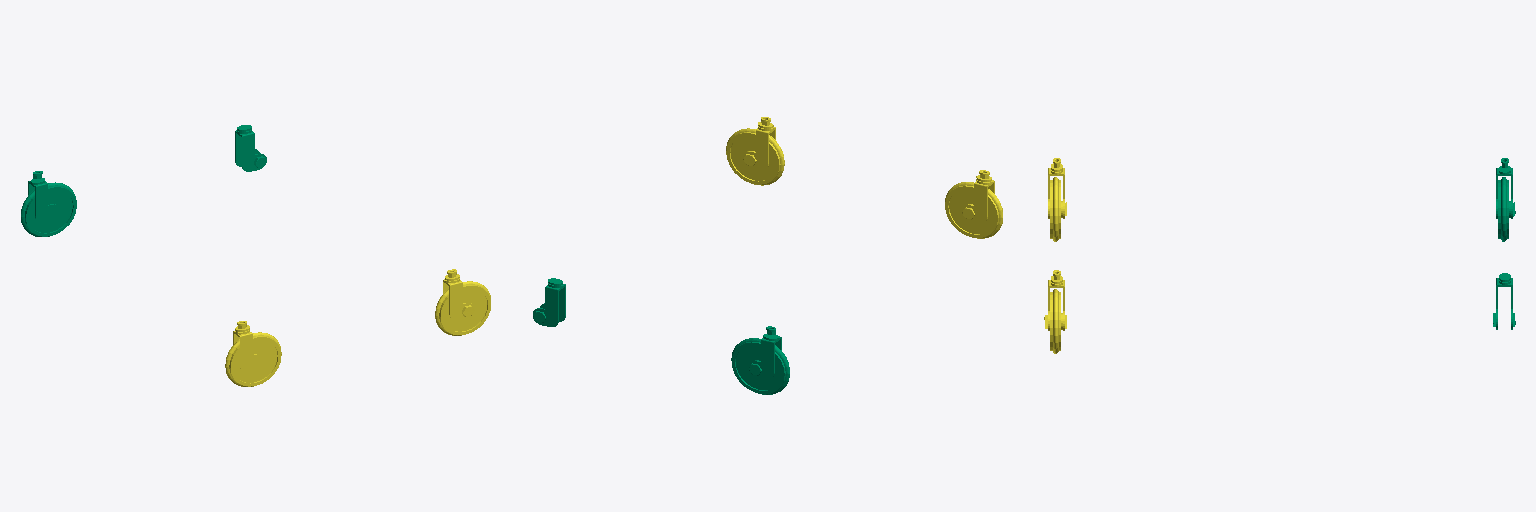
--- Facts derived from the render (not from the file) ---
The picture shows the robot from 3 angles, left to right: view 1: azimuth 30°, elevation 25°; view 2: azimuth 150°, elevation 25°; view 3: azimuth 270°, elevation 25°; orthographic projection.
Robot: partnet_3cdabe258ed67a144da5feafe6f1c8fc — 4 links, 3 joints (1 revolute, 1 prismatic, 1 fixed); root link base; default pose: all joints at 0.
Links seen in each view (by area): view 1: link_2, link_1; view 2: link_2, link_1; view 3: link_2, link_1.
Link boxes in pixels (x1,y1,x2,y2): link_2: [225, 269, 490, 386]; link_1: [21, 125, 266, 236]; link_2: [726, 117, 1002, 238]; link_1: [533, 278, 789, 394]; link_2: [1044, 158, 1066, 353]; link_1: [1493, 158, 1515, 329].
Size in the robot's own frame: 1.15 by 1.61 by 0.2741 metres.
Meshes: 43 distinct files referenced, 23 mesh visuals loaded (23 OBJ); not drawn: 20 (reference not matched to a file when rendering).

robot.urdf — partnet_3cdabe258ed67a144da5feafe6f1c8fc:
<robot name="partnet_3cdabe258ed67a144da5feafe6f1c8fc">
	<link name="base" />
	<link name="link_0">
		<collision>
			<origin xyz="0.06925157730966305 0 -0.3877265588637183" />
			<geometry>
				<mesh filename="new5_objs/handle-15-0.obj" />
			</geometry>
		</collision>
		<collision>
			<origin xyz="0.06925157730966305 0 -0.3877265588637183" />
			<geometry>
				<mesh filename="new5_objs/handle-15-1.obj" />
			</geometry>
		</collision>
		<collision>
			<origin xyz="0.06925157730966305 0 -0.3877265588637183" />
			<geometry>
				<mesh filename="new5_objs/handle-15-2.obj" />
			</geometry>
		</collision>
		<collision>
			<origin xyz="0.06925157730966305 0 -0.3877265588637183" />
			<geometry>
				<mesh filename="new5_objs/handle-15-3.obj" />
			</geometry>
		</collision>
		<collision>
			<origin xyz="0.06925157730966305 0 -0.3877265588637183" />
			<geometry>
				<mesh filename="new5_objs/handle-15-4.obj" />
			</geometry>
		</collision>
		<collision>
			<origin xyz="0.06925157730966305 0 -0.3877265588637183" />
			<geometry>
				<mesh filename="new5_objs/handle-15-5.obj" />
			</geometry>
		</collision>
		<collision>
			<origin xyz="0.06925157730966305 0 -0.3877265588637183" />
			<geometry>
				<mesh filename="new5_objs/handle-15-6.obj" />
			</geometry>
		</collision>
		<collision>
			<origin xyz="0.06925157730966305 0 -0.3877265588637183" />
			<geometry>
				<mesh filename="new5_objs/handle-15-7.obj" />
			</geometry>
		</collision>
		<collision>
			<origin xyz="0.06925157730966305 0 -0.3877265588637183" />
			<geometry>
				<mesh filename="new5_objs/handle-15-8.obj" />
			</geometry>
		</collision>
		<collision>
			<origin xyz="0.06925157730966305 0 -0.3877265588637183" />
			<geometry>
				<mesh filename="new5_objs/handle-15-9.obj" />
			</geometry>
		</collision>
		<collision>
			<origin xyz="0.06925157730966305 0 -0.3877265588637183" />
			<geometry>
				<mesh filename="new5_objs/handle-15-10.obj" />
			</geometry>
		</collision>
		<collision>
			<origin xyz="0.06925157730966305 0 -0.3877265588637183" />
			<geometry>
				<mesh filename="new5_objs/handle-15-11.obj" />
			</geometry>
		</collision>
		<collision>
			<origin xyz="0.06925157730966305 0 -0.3877265588637183" />
			<geometry>
				<mesh filename="new5_objs/handle-15-12.obj" />
			</geometry>
		</collision>
		<collision>
			<origin xyz="0.06925157730966305 0 -0.3877265588637183" />
			<geometry>
				<mesh filename="new5_objs/handle-15-13.obj" />
			</geometry>
		</collision>
		<collision>
			<origin xyz="0.06925157730966305 0 -0.3877265588637183" />
			<geometry>
				<mesh filename="new5_objs/cabinet_door_surface-14-0.obj" />
			</geometry>
		</collision>
		<collision>
			<origin xyz="0.06925157730966305 0 -0.3877265588637183" />
			<geometry>
				<mesh filename="new5_objs/cabinet_door_surface-14-1.obj" />
			</geometry>
		</collision>
		<collision>
			<origin xyz="0.06925157730966305 0 -0.3877265588637183" />
			<geometry>
				<mesh filename="new5_objs/cabinet_door_surface-14-2.obj" />
			</geometry>
		</collision>
		<collision>
			<origin xyz="0.06925157730966305 0 -0.3877265588637183" />
			<geometry>
				<mesh filename="new5_objs/cabinet_door_surface-14-3.obj" />
			</geometry>
		</collision>
		<collision>
			<origin xyz="0.06925157730966305 0 -0.3877265588637183" />
			<geometry>
				<mesh filename="new5_objs/cabinet_door_surface-14-4.obj" />
			</geometry>
		</collision>
		<collision>
			<origin xyz="0.06925157730966305 0 -0.3877265588637183" />
			<geometry>
				<mesh filename="new5_objs/cabinet_door_surface-14-5.obj" />
			</geometry>
		</collision>
		<collision>
			<origin xyz="0.06925157730966305 0 -0.3877265588637183" />
			<geometry>
				<mesh filename="new5_objs/cabinet_door_surface-14-6.obj" />
			</geometry>
		</collision>
		<collision>
			<origin xyz="0.06925157730966305 0 -0.3877265588637183" />
			<geometry>
				<mesh filename="new5_objs/cabinet_door_surface-14-7.obj" />
			</geometry>
		</collision>
		<collision>
			<origin xyz="0.06925157730966305 0 -0.3877265588637183" />
			<geometry>
				<mesh filename="new5_objs/cabinet_door_surface-14-8.obj" />
			</geometry>
		</collision>
		<collision>
			<origin xyz="0.06925157730966305 0 -0.3877265588637183" />
			<geometry>
				<mesh filename="new5_objs/cabinet_door_surface-14-9.obj" />
			</geometry>
		</collision>
		<collision>
			<origin xyz="0.06925157730966305 0 -0.3877265588637183" />
			<geometry>
				<mesh filename="new5_objs/cabinet_door_surface-14-10.obj" />
			</geometry>
		</collision>
		<collision>
			<origin xyz="0.06925157730966305 0 -0.3877265588637183" />
			<geometry>
				<mesh filename="new5_objs/cabinet_door_surface-14-11.obj" />
			</geometry>
		</collision>
		<visual name="cabinet_door_surface-14">
			<origin xyz="0.06925157730966305 0 -0.3877265588637183" />
			<geometry>
				<mesh filename="textured_objs/original-51.obj" />
			</geometry>
		</visual>
		<visual name="cabinet_door_surface-14">
			<origin xyz="0.06925157730966305 0 -0.3877265588637183" />
			<geometry>
				<mesh filename="textured_objs/original-46.obj" />
			</geometry>
		</visual>
		<visual name="cabinet_door_surface-14">
			<origin xyz="0.06925157730966305 0 -0.3877265588637183" />
			<geometry>
				<mesh filename="textured_objs/original-47.obj" />
			</geometry>
		</visual>
		<visual name="cabinet_door_surface-14">
			<origin xyz="0.06925157730966305 0 -0.3877265588637183" />
			<geometry>
				<mesh filename="textured_objs/original-45.obj" />
			</geometry>
		</visual>
		<visual name="cabinet_door_surface-14">
			<origin xyz="0.06925157730966305 0 -0.3877265588637183" />
			<geometry>
				<mesh filename="textured_objs/original-48.obj" />
			</geometry>
		</visual>
		<visual name="cabinet_door_surface-14">
			<origin xyz="0.06925157730966305 0 -0.3877265588637183" />
			<geometry>
				<mesh filename="textured_objs/original-50.obj" />
			</geometry>
		</visual>
		<visual name="handle-15">
			<origin xyz="0.06925157730966305 0 -0.3877265588637183" />
			<geometry>
				<mesh filename="textured_objs/original-52.obj" />
			</geometry>
		</visual>
		</link>
	<joint name="joint_0" type="revolute">
		<origin xyz="-0.06925157730966305 0 0.3877265588637183" />
		<axis xyz="0 1 0" />
		<child link="link_0" />
		<parent link="link_2" />
		<limit lower="0.0" upper="1.5707963267948966" />
	</joint>
	<link name="link_1">
		<collision>
			<origin xyz="0 0 0" />
			<geometry>
				<mesh filename="new5_objs/drawer_side-10-0.obj" />
			</geometry>
		</collision>
		<collision>
			<origin xyz="0 0 0" />
			<geometry>
				<mesh filename="new5_objs/drawer_side-11-0.obj" />
			</geometry>
		</collision>
		<collision>
			<origin xyz="0 0 0" />
			<geometry>
				<mesh filename="new5_objs/drawer_bottom-13-0.obj" />
			</geometry>
		</collision>
		<collision>
			<origin xyz="0 0 0" />
			<geometry>
				<mesh filename="new5_objs/drawer_bottom-13-1.obj" />
			</geometry>
		</collision>
		<collision>
			<origin xyz="0 0 0" />
			<geometry>
				<mesh filename="new5_objs/drawer_front-9-0.obj" />
			</geometry>
		</collision>
		<collision>
			<origin xyz="0 0 0" />
			<geometry>
				<mesh filename="new5_objs/drawer_front-9-1.obj" />
			</geometry>
		</collision>
		<collision>
			<origin xyz="0 0 0" />
			<geometry>
				<mesh filename="new5_objs/drawer_front-9-2.obj" />
			</geometry>
		</collision>
		<collision>
			<origin xyz="0 0 0" />
			<geometry>
				<mesh filename="new5_objs/drawer_front-9-3.obj" />
			</geometry>
		</collision>
		<collision>
			<origin xyz="0 0 0" />
			<geometry>
				<mesh filename="new5_objs/drawer_front-9-4.obj" />
			</geometry>
		</collision>
		<collision>
			<origin xyz="0 0 0" />
			<geometry>
				<mesh filename="new5_objs/drawer_front-9-5.obj" />
			</geometry>
		</collision>
		<collision>
			<origin xyz="0 0 0" />
			<geometry>
				<mesh filename="new5_objs/drawer_front-9-6.obj" />
			</geometry>
		</collision>
		<collision>
			<origin xyz="0 0 0" />
			<geometry>
				<mesh filename="new5_objs/drawer_front-9-7.obj" />
			</geometry>
		</collision>
		<collision>
			<origin xyz="0 0 0" />
			<geometry>
				<mesh filename="new5_objs/drawer_front-9-8.obj" />
			</geometry>
		</collision>
		<collision>
			<origin xyz="0 0 0" />
			<geometry>
				<mesh filename="new5_objs/drawer_front-9-9.obj" />
			</geometry>
		</collision>
		<collision>
			<origin xyz="0 0 0" />
			<geometry>
				<mesh filename="new5_objs/drawer_front-9-10.obj" />
			</geometry>
		</collision>
		<collision>
			<origin xyz="0 0 0" />
			<geometry>
				<mesh filename="new5_objs/drawer_front-9-11.obj" />
			</geometry>
		</collision>
		<collision>
			<origin xyz="0 0 0" />
			<geometry>
				<mesh filename="new5_objs/drawer_front-9-12.obj" />
			</geometry>
		</collision>
		<collision>
			<origin xyz="0 0 0" />
			<geometry>
				<mesh filename="new5_objs/drawer_front-9-13.obj" />
			</geometry>
		</collision>
		<collision>
			<origin xyz="0 0 0" />
			<geometry>
				<mesh filename="new5_objs/drawer_front-9-14.obj" />
			</geometry>
		</collision>
		<collision>
			<origin xyz="0 0 0" />
			<geometry>
				<mesh filename="new5_objs/drawer_front-9-15.obj" />
			</geometry>
		</collision>
		<collision>
			<origin xyz="0 0 0" />
			<geometry>
				<mesh filename="new5_objs/handle-8-0.obj" />
			</geometry>
		</collision>
		<collision>
			<origin xyz="0 0 0" />
			<geometry>
				<mesh filename="new5_objs/handle-8-1.obj" />
			</geometry>
		</collision>
		<collision>
			<origin xyz="0 0 0" />
			<geometry>
				<mesh filename="new5_objs/handle-8-2.obj" />
			</geometry>
		</collision>
		<collision>
			<origin xyz="0 0 0" />
			<geometry>
				<mesh filename="new5_objs/handle-8-3.obj" />
			</geometry>
		</collision>
		<collision>
			<origin xyz="0 0 0" />
			<geometry>
				<mesh filename="new5_objs/handle-8-4.obj" />
			</geometry>
		</collision>
		<collision>
			<origin xyz="0 0 0" />
			<geometry>
				<mesh filename="new5_objs/handle-8-5.obj" />
			</geometry>
		</collision>
		<collision>
			<origin xyz="0 0 0" />
			<geometry>
				<mesh filename="new5_objs/handle-8-6.obj" />
			</geometry>
		</collision>
		<collision>
			<origin xyz="0 0 0" />
			<geometry>
				<mesh filename="new5_objs/handle-8-7.obj" />
			</geometry>
		</collision>
		<collision>
			<origin xyz="0 0 0" />
			<geometry>
				<mesh filename="new5_objs/handle-8-8.obj" />
			</geometry>
		</collision>
		<collision>
			<origin xyz="0 0 0" />
			<geometry>
				<mesh filename="new5_objs/handle-8-9.obj" />
			</geometry>
		</collision>
		<collision>
			<origin xyz="0 0 0" />
			<geometry>
				<mesh filename="new5_objs/handle-8-10.obj" />
			</geometry>
		</collision>
		<collision>
			<origin xyz="0 0 0" />
			<geometry>
				<mesh filename="new5_objs/handle-8-11.obj" />
			</geometry>
		</collision>
		<collision>
			<origin xyz="0 0 0" />
			<geometry>
				<mesh filename="new5_objs/handle-8-12.obj" />
			</geometry>
		</collision>
		<collision>
			<origin xyz="0 0 0" />
			<geometry>
				<mesh filename="new5_objs/handle-8-13.obj" />
			</geometry>
		</collision>
		<collision>
			<origin xyz="0 0 0" />
			<geometry>
				<mesh filename="new5_objs/drawer_back-12-0.obj" />
			</geometry>
		</collision>
		<collision>
			<origin xyz="0 0 0" />
			<geometry>
				<mesh filename="new5_objs/drawer_back-12-1.obj" />
			</geometry>
		</collision>
		<collision>
			<origin xyz="0 0 0" />
			<geometry>
				<mesh filename="new5_objs/drawer_back-12-2.obj" />
			</geometry>
		</collision>
		<collision>
			<origin xyz="0 0 0" />
			<geometry>
				<mesh filename="new5_objs/drawer_back-12-3.obj" />
			</geometry>
		</collision>
		<collision>
			<origin xyz="0 0 0" />
			<geometry>
				<mesh filename="new5_objs/drawer_back-12-4.obj" />
			</geometry>
		</collision>
		<collision>
			<origin xyz="0 0 0" />
			<geometry>
				<mesh filename="new5_objs/drawer_back-12-5.obj" />
			</geometry>
		</collision>
		<collision>
			<origin xyz="0 0 0" />
			<geometry>
				<mesh filename="new5_objs/drawer_back-12-6.obj" />
			</geometry>
		</collision>
		<collision>
			<origin xyz="0 0 0" />
			<geometry>
				<mesh filename="new5_objs/drawer_back-12-7.obj" />
			</geometry>
		</collision>
		<visual name="drawer_front-9">
			<origin xyz="0 0 0" />
			<geometry>
				<mesh filename="textured_objs/original-42.obj" />
			</geometry>
		</visual>
		<visual name="drawer_front-9">
			<origin xyz="0 0 0" />
			<geometry>
				<mesh filename="textured_objs/original-38.obj" />
			</geometry>
		</visual>
		<visual name="drawer_front-9">
			<origin xyz="0 0 0" />
			<geometry>
				<mesh filename="textured_objs/original-39.obj" />
			</geometry>
		</visual>
		<visual name="drawer_front-9">
			<origin xyz="0 0 0" />
			<geometry>
				<mesh filename="textured_objs/original-36.obj" />
			</geometry>
		</visual>
		<visual name="drawer_front-9">
			<origin xyz="0 0 0" />
			<geometry>
				<mesh filename="textured_objs/original-37.obj" />
			</geometry>
		</visual>
		<visual name="drawer_front-9">
			<origin xyz="0 0 0" />
			<geometry>
				<mesh filename="textured_objs/original-41.obj" />
			</geometry>
		</visual>
		<visual name="drawer_front-9">
			<origin xyz="0 0 0" />
			<geometry>
				<mesh filename="textured_objs/original-28.obj" />
			</geometry>
		</visual>
		<visual name="drawer_side-10">
			<origin xyz="0 0 0" />
			<geometry>
				<mesh filename="textured_objs/original-27.obj" />
			</geometry>
		</visual>
		<visual name="drawer_side-11">
			<origin xyz="0 0 0" />
			<geometry>
				<mesh filename="textured_objs/original-32.obj" />
			</geometry>
		</visual>
		<visual name="drawer_side-11">
			<origin xyz="0 0 0" />
			<geometry>
				<mesh filename="textured_objs/original-34.obj" />
			</geometry>
		</visual>
		<visual name="drawer_back-12">
			<origin xyz="0 0 0" />
			<geometry>
				<mesh filename="textured_objs/original-33.obj" />
			</geometry>
		</visual>
		<visual name="drawer_bottom-13">
			<origin xyz="0 0 0" />
			<geometry>
				<mesh filename="textured_objs/original-31.obj" />
			</geometry>
		</visual>
		<visual name="drawer_bottom-13">
			<origin xyz="0 0 0" />
			<geometry>
				<mesh filename="textured_objs/original-30.obj" />
			</geometry>
		</visual>
		<visual name="handle-8">
			<origin xyz="0 0 0" />
			<geometry>
				<mesh filename="textured_objs/original-43.obj" />
			</geometry>
		</visual>
		</link>
	<joint name="joint_1" type="prismatic">
		<origin xyz="0 0 0" />
		<axis xyz="0 0 1" />
		<child link="link_1" />
		<parent link="link_2" />
		<limit lower="0" upper="0.6" />
	</joint>
	<link name="link_2">
		<collision>
			<origin xyz="0 0 0" />
			<geometry>
				<mesh filename="new5_objs/vertical_side_panel-23-0.obj" />
			</geometry>
		</collision>
		<collision>
			<origin xyz="0 0 0" />
			<geometry>
				<mesh filename="new5_objs/vertical_side_panel-23-1.obj" />
			</geometry>
		</collision>
		<collision>
			<origin xyz="0 0 0" />
			<geometry>
				<mesh filename="new5_objs/vertical_side_panel-23-2.obj" />
			</geometry>
		</collision>
		<collision>
			<origin xyz="0 0 0" />
			<geometry>
				<mesh filename="new5_objs/vertical_side_panel-23-3.obj" />
			</geometry>
		</collision>
		<collision>
			<origin xyz="0 0 0" />
			<geometry>
				<mesh filename="new5_objs/vertical_side_panel-23-4.obj" />
			</geometry>
		</collision>
		<collision>
			<origin xyz="0 0 0" />
			<geometry>
				<mesh filename="new5_objs/vertical_side_panel-23-5.obj" />
			</geometry>
		</collision>
		<collision>
			<origin xyz="0 0 0" />
			<geometry>
				<mesh filename="new5_objs/vertical_side_panel-23-6.obj" />
			</geometry>
		</collision>
		<collision>
			<origin xyz="0 0 0" />
			<geometry>
				<mesh filename="new5_objs/vertical_side_panel-23-7.obj" />
			</geometry>
		</collision>
		<collision>
			<origin xyz="0 0 0" />
			<geometry>
				<mesh filename="new5_objs/vertical_side_panel-23-8.obj" />
			</geometry>
		</collision>
		<collision>
			<origin xyz="0 0 0" />
			<geometry>
				<mesh filename="new5_objs/vertical_side_panel-23-9.obj" />
			</geometry>
		</collision>
		<collision>
			<origin xyz="0 0 0" />
			<geometry>
				<mesh filename="new5_objs/vertical_side_panel-23-10.obj" />
			</geometry>
		</collision>
		<collision>
			<origin xyz="0 0 0" />
			<geometry>
				<mesh filename="new5_objs/frame_horizontal_bar-28-0.obj" />
			</geometry>
		</collision>
		<collision>
			<origin xyz="0 0 0" />
			<geometry>
				<mesh filename="new5_objs/frame_horizontal_bar-28-1.obj" />
			</geometry>
		</collision>
		<collision>
			<origin xyz="0 0 0" />
			<geometry>
				<mesh filename="new5_objs/frame_horizontal_bar-28-2.obj" />
			</geometry>
		</collision>
		<collision>
			<origin xyz="0 0 0" />
			<geometry>
				<mesh filename="new5_objs/frame_horizontal_bar-28-3.obj" />
			</geometry>
		</collision>
		<collision>
			<origin xyz="0 0 0" />
			<geometry>
				<mesh filename="new5_objs/frame_horizontal_bar-28-4.obj" />
			</geometry>
		</collision>
		<collision>
			<origin xyz="0 0 0" />
			<geometry>
				<mesh filename="new5_objs/frame_horizontal_bar-28-5.obj" />
			</geometry>
		</collision>
		<collision>
			<origin xyz="0 0 0" />
			<geometry>
				<mesh filename="new5_objs/frame_horizontal_bar-28-6.obj" />
			</geometry>
		</collision>
		<collision>
			<origin xyz="0 0 0" />
			<geometry>
				<mesh filename="new5_objs/frame_horizontal_bar-28-7.obj" />
			</geometry>
		</collision>
		<collision>
			<origin xyz="0 0 0" />
			<geometry>
				<mesh filename="new5_objs/frame_horizontal_bar-30-0.obj" />
			</geometry>
		</collision>
		<collision>
			<origin xyz="0 0 0" />
			<geometry>
				<mesh filename="new5_objs/frame_horizontal_bar-30-1.obj" />
			</geometry>
		</collision>
		<collision>
			<origin xyz="0 0 0" />
			<geometry>
				<mesh filename="new5_objs/frame_horizontal_bar-30-2.obj" />
			</geometry>
		</collision>
		<collision>
			<origin xyz="0 0 0" />
			<geometry>
				<mesh filename="new5_objs/frame_horizontal_bar-30-3.obj" />
			</geometry>
		</collision>
		<collision>
			<origin xyz="0 0 0" />
			<geometry>
				<mesh filename="new5_objs/other_leaf-39-0.obj" />
			</geometry>
		</collision>
		<collision>
			<origin xyz="0 0 0" />
			<geometry>
				<mesh filename="new5_objs/vertical_side_panel-22-0.obj" />
			</geometry>
		</collision>
		<collision>
			<origin xyz="0 0 0" />
			<geometry>
				<mesh filename="new5_objs/vertical_side_panel-22-1.obj" />
			</geometry>
		</collision>
		<collision>
			<origin xyz="0 0 0" />
			<geometry>
				<mesh filename="new5_objs/vertical_side_panel-22-2.obj" />
			</geometry>
		</collision>
		<collision>
			<origin xyz="0 0 0" />
			<geometry>
				<mesh filename="new5_objs/vertical_side_panel-22-3.obj" />
			</geometry>
		</collision>
		<collision>
			<origin xyz="0 0 0" />
			<geometry>
				<mesh filename="new5_objs/vertical_side_panel-22-4.obj" />
			</geometry>
		</collision>
		<collision>
			<origin xyz="0 0 0" />
			<geometry>
				<mesh filename="new5_objs/vertical_side_panel-22-5.obj" />
			</geometry>
		</collision>
		<collision>
			<origin xyz="0 0 0" />
			<geometry>
				<mesh filename="new5_objs/vertical_side_panel-22-6.obj" />
			</geometry>
		</collision>
		<collision>
			<origin xyz="0 0 0" />
			<geometry>
				<mesh filename="new5_objs/vertical_side_panel-22-7.obj" />
			</geometry>
		</collision>
		<collision>
			<origin xyz="0 0 0" />
			<geometry>
				<mesh filename="new5_objs/vertical_side_panel-22-8.obj" />
			</geometry>
		</collision>
		<collision>
			<origin xyz="0 0 0" />
			<geometry>
				<mesh filename="new5_objs/vertical_side_panel-22-9.obj" />
			</geometry>
		</collision>
		<collision>
			<origin xyz="0 0 0" />
			<geometry>
				<mesh filename="new5_objs/vertical_side_panel-22-10.obj" />
			</geometry>
		</collision>
		<collision>
			<origin xyz="0 0 0" />
			<geometry>
				<mesh filename="new5_objs/frame_horizontal_bar-29-0.obj" />
			</geometry>
		</collision>
		<collision>
			<origin xyz="0 0 0" />
			<geometry>
				<mesh filename="new5_objs/frame_horizontal_bar-29-1.obj" />
			</geometry>
		</collision>
		<collision>
			<origin xyz="0 0 0" />
			<geometry>
				<mesh filename="new5_objs/frame_horizontal_bar-29-2.obj" />
			</geometry>
		</collision>
		<collision>
			<origin xyz="0 0 0" />
			<geometry>
				<mesh filename="new5_objs/frame_horizontal_bar-29-3.obj" />
			</geometry>
		</collision>
		<collision>
			<origin xyz="0 0 0" />
			<geometry>
				<mesh filename="new5_objs/frame_horizontal_bar-29-4.obj" />
			</geometry>
		</collision>
		<collision>
			<origin xyz="0 0 0" />
			<geometry>
				<mesh filename="new5_objs/frame_horizontal_bar-29-5.obj" />
			</geometry>
		</collision>
		<collision>
			<origin xyz="0 0 0" />
			<geometry>
				<mesh filename="new5_objs/frame_horizontal_bar-29-6.obj" />
			</geometry>
		</collision>
		<collision>
			<origin xyz="0 0 0" />
			<geometry>
				<mesh filename="new5_objs/frame_horizontal_bar-29-7.obj" />
			</geometry>
		</collision>
		<collision>
			<origin xyz="0 0 0" />
			<geometry>
				<mesh filename="new5_objs/bottom_panel-25-0.obj" />
			</geometry>
		</collision>
		<collision>
			<origin xyz="0 0 0" />
			<geometry>
				<mesh filename="new5_objs/frame_horizontal_bar-31-0.obj" />
			</geometry>
		</collision>
		<collision>
			<origin xyz="0 0 0" />
			<geometry>
				<mesh filename="new5_objs/frame_horizontal_bar-31-1.obj" />
			</geometry>
		</collision>
		<collision>
			<origin xyz="0 0 0" />
			<geometry>
				<mesh filename="new5_objs/frame_horizontal_bar-31-2.obj" />
			</geometry>
		</collision>
		<collision>
			<origin xyz="0 0 0" />
			<geometry>
				<mesh filename="new5_objs/frame_horizontal_bar-31-3.obj" />
			</geometry>
		</collision>
		<collision>
			<origin xyz="0 0 0" />
			<geometry>
				<mesh filename="new5_objs/frame_horizontal_bar-31-4.obj" />
			</geometry>
		</collision>
		<collision>
			<origin xyz="0 0 0" />
			<geometry>
				<mesh filename="new5_objs/base_side_panel-17-0.obj" />
			</geometry>
		</collision>
		<collision>
			<origin xyz="0 0 0" />
			<geometry>
				<mesh filename="new5_objs/base_side_panel-17-1.obj" />
			</geometry>
		</collision>
		<collision>
			<origin xyz="0 0 0" />
			<geometry>
				<mesh filename="new5_objs/back_panel-24-0.obj" />
			</geometry>
		</collision>
		<collision>
			<origin xyz="0 0 0" />
			<geometry>
				<mesh filename="new5_objs/back_panel-24-1.obj" />
			</geometry>
		</collision>
		<collision>
			<origin xyz="0 0 0" />
			<geometry>
				<mesh filename="new5_objs/frame_vertical_bar-26-0.obj" />
			</geometry>
		</collision>
		<collision>
			<origin xyz="0 0 0" />
			<geometry>
				<mesh filename="new5_objs/frame_vertical_bar-34-0.obj" />
			</geometry>
		</collision>
		<collision>
			<origin xyz="0 0 0" />
			<geometry>
				<mesh filename="new5_objs/base_side_panel-18-0.obj" />
			</geometry>
		</collision>
		<collision>
			<origin xyz="0 0 0" />
			<geometry>
				<mesh filename="new5_objs/base_side_panel-18-1.obj" />
			</geometry>
		</collision>
		<collision>
			<origin xyz="0 0 0" />
			<geometry>
				<mesh filename="new5_objs/base_side_panel-18-2.obj" />
			</geometry>
		</collision>
		<collision>
			<origin xyz="0 0 0" />
			<geometry>
				<mesh filename="new5_objs/base_side_panel-18-3.obj" />
			</geometry>
		</collision>
		<collision>
			<origin xyz="0 0 0" />
			<geometry>
				<mesh filename="new5_objs/frame_vertical_bar-37-0.obj" />
			</geometry>
		</collision>
		<collision>
			<origin xyz="0 0 0" />
			<geometry>
				<mesh filename="new5_objs/frame_vertical_bar-37-1.obj" />
			</geometry>
		</collision>
		<collision>
			<origin xyz="0 0 0" />
			<geometry>
				<mesh filename="new5_objs/frame_vertical_bar-37-2.obj" />
			</geometry>
		</collision>
		<collision>
			<origin xyz="0 0 0" />
			<geometry>
				<mesh filename="new5_objs/frame_vertical_bar-37-3.obj" />
			</geometry>
		</collision>
		<collision>
			<origin xyz="0 0 0" />
			<geometry>
				<mesh filename="new5_objs/frame_vertical_bar-37-4.obj" />
			</geometry>
		</collision>
		<collision>
			<origin xyz="0 0 0" />
			<geometry>
				<mesh filename="new5_objs/frame_vertical_bar-37-5.obj" />
			</geometry>
		</collision>
		<collision>
			<origin xyz="0 0 0" />
			<geometry>
				<mesh filename="new5_objs/frame_vertical_bar-37-6.obj" />
			</geometry>
		</collision>
		<collision>
			<origin xyz="0 0 0" />
			<geometry>
				<mesh filename="new5_objs/frame_vertical_bar-37-7.obj" />
			</geometry>
		</collision>
		<collision>
			<origin xyz="0 0 0" />
			<geometry>
				<mesh filename="new5_objs/base_side_panel-20-0.obj" />
			</geometry>
		</collision>
		<collision>
			<origin xyz="0 0 0" />
			<geometry>
				<mesh filename="new5_objs/base_side_panel-20-1.obj" />
			</geometry>
		</collision>
		<collision>
			<origin xyz="0 0 0" />
			<geometry>
				<mesh filename="new5_objs/base_side_panel-20-2.obj" />
			</geometry>
		</collision>
		<collision>
			<origin xyz="0 0 0" />
			<geometry>
				<mesh filename="new5_objs/base_side_panel-20-3.obj" />
			</geometry>
		</collision>
		<collision>
			<origin xyz="0 0 0" />
			<geometry>
				<mesh filename="new5_objs/frame_horizontal_bar-33-0.obj" />
			</geometry>
		</collision>
		<collision>
			<origin xyz="0 0 0" />
			<geometry>
				<mesh filename="new5_objs/frame_horizontal_bar-33-1.obj" />
			</geometry>
		</collision>
		<collision>
			<origin xyz="0 0 0" />
			<geometry>
				<mesh filename="new5_objs/frame_horizontal_bar-33-2.obj" />
			</geometry>
		</collision>
		<collision>
			<origin xyz="0 0 0" />
			<geometry>
				<mesh filename="new5_objs/frame_horizontal_bar-33-3.obj" />
			</geometry>
		</collision>
		<collision>
			<origin xyz="0 0 0" />
			<geometry>
				<mesh filename="new5_objs/frame_horizontal_bar-33-4.obj" />
			</geometry>
		</collision>
		<collision>
			<origin xyz="0 0 0" />
			<geometry>
				<mesh filename="new5_objs/frame_horizontal_bar-33-5.obj" />
			</geometry>
		</collision>
		<collision>
			<origin xyz="0 0 0" />
			<geometry>
				<mesh filename="new5_objs/frame_horizontal_bar-33-6.obj" />
			</geometry>
		</collision>
		<collision>
			<origin xyz="0 0 0" />
			<geometry>
				<mesh filename="new5_objs/frame_horizontal_bar-33-7.obj" />
			</geometry>
		</collision>
		<collision>
			<origin xyz="0 0 0" />
			<geometry>
				<mesh filename="new5_objs/frame_horizontal_bar-32-0.obj" />
			</geometry>
		</collision>
		<collision>
			<origin xyz="0 0 0" />
			<geometry>
				<mesh filename="new5_objs/frame_horizontal_bar-32-1.obj" />
			</geometry>
		</collision>
		<collision>
			<origin xyz="0 0 0" />
			<geometry>
				<mesh filename="new5_objs/frame_horizontal_bar-32-2.obj" />
			</geometry>
		</collision>
		<collision>
			<origin xyz="0 0 0" />
			<geometry>
				<mesh filename="new5_objs/frame_horizontal_bar-32-3.obj" />
			</geometry>
		</collision>
		<collision>
			<origin xyz="0 0 0" />
			<geometry>
				<mesh filename="new5_objs/base_side_panel-19-0.obj" />
			</geometry>
		</collision>
		<collision>
			<origin xyz="0 0 0" />
			<geometry>
				<mesh filename="new5_objs/vertical_side_panel-36-0.obj" />
			</geometry>
		</collision>
		<collision>
			<origin xyz="0 0 0" />
			<geometry>
				<mesh filename="new5_objs/vertical_side_panel-36-1.obj" />
			</geometry>
		</collision>
		<collision>
			<origin xyz="0 0 0" />
			<geometry>
				<mesh filename="new5_objs/vertical_side_panel-36-2.obj" />
			</geometry>
		</collision>
		<collision>
			<origin xyz="0 0 0" />
			<geometry>
				<mesh filename="new5_objs/vertical_side_panel-36-3.obj" />
			</geometry>
		</collision>
		<collision>
			<origin xyz="0 0 0" />
			<geometry>
				<mesh filename="new5_objs/shelf-4-0.obj" />
			</geometry>
		</collision>
		<collision>
			<origin xyz="0 0 0" />
			<geometry>
				<mesh filename="new5_objs/shelf-4-1.obj" />
			</geometry>
		</collision>
		<collision>
			<origin xyz="0 0 0" />
			<geometry>
				<mesh filename="new5_objs/shelf-4-2.obj" />
			</geometry>
		</collision>
		<collision>
			<origin xyz="0 0 0" />
			<geometry>
				<mesh filename="new5_objs/shelf-4-3.obj" />
			</geometry>
		</collision>
		<visual name="shelf-4">
			<origin xyz="0 0 0" />
			<geometry>
				<mesh filename="textured_objs/original-2.obj" />
			</geometry>
		</visual>
		<visual name="vertical_side_panel-22">
			<origin xyz="0 0 0" />
			<geometry>
				<mesh filename="textured_objs/original-16.obj" />
			</geometry>
		</visual>
		<visual name="vertical_side_panel-22">
			<origin xyz="0 0 0" />
			<geometry>
				<mesh filename="textured_objs/original-15.obj" />
			</geometry>
		</visual>
		<visual name="vertical_side_panel-23">
			<origin xyz="0 0 0" />
			<geometry>
				<mesh filename="textured_objs/original-12.obj" />
			</geometry>
		</visual>
		<visual name="vertical_side_panel-23">
			<origin xyz="0 0 0" />
			<geometry>
				<mesh filename="textured_objs/original-11.obj" />
			</geometry>
		</visual>
		<visual name="back_panel-24">
			<origin xyz="0 0 0" />
			<geometry>
				<mesh filename="textured_objs/original-6.obj" />
			</geometry>
		</visual>
		<visual name="bottom_panel-25">
			<origin xyz="0 0 0" />
			<geometry>
				<mesh filename="textured_objs/original-3.obj" />
			</geometry>
		</visual>
		<visual name="frame_vertical_bar-26">
			<origin xyz="0 0 0" />
			<geometry>
				<mesh filename="textured_objs/original-8.obj" />
			</geometry>
		</visual>
		<visual name="frame_horizontal_bar-28">
			<origin xyz="0 0 0" />
			<geometry>
				<mesh filename="textured_objs/original-18.obj" />
			</geometry>
		</visual>
		<visual name="frame_horizontal_bar-29">
			<origin xyz="0 0 0" />
			<geometry>
				<mesh filename="textured_objs/original-9.obj" />
			</geometry>
		</visual>
		<visual name="frame_horizontal_bar-30">
			<origin xyz="0 0 0" />
			<geometry>
				<mesh filename="textured_objs/original-22.obj" />
			</geometry>
		</visual>
		<visual name="frame_horizontal_bar-31">
			<origin xyz="0 0 0" />
			<geometry>
				<mesh filename="textured_objs/original-5.obj" />
			</geometry>
		</visual>
		<visual name="frame_horizontal_bar-32">
			<origin xyz="0 0 0" />
			<geometry>
				<mesh filename="textured_objs/original-21.obj" />
			</geometry>
		</visual>
		<visual name="frame_horizontal_bar-33">
			<origin xyz="0 0 0" />
			<geometry>
				<mesh filename="textured_objs/original-7.obj" />
			</geometry>
		</visual>
		<visual name="frame_vertical_bar-34">
			<origin xyz="0 0 0" />
			<geometry>
				<mesh filename="textured_objs/original-4.obj" />
			</geometry>
		</visual>
		<visual name="vertical_side_panel-36">
			<origin xyz="0 0 0" />
			<geometry>
				<mesh filename="textured_objs/original-23.obj" />
			</geometry>
		</visual>
		<visual name="frame_vertical_bar-37">
			<origin xyz="0 0 0" />
			<geometry>
				<mesh filename="textured_objs/original-24.obj" />
			</geometry>
		</visual>
		<visual name="other_leaf-39">
			<origin xyz="0 0 0" />
			<geometry>
				<mesh filename="textured_objs/original-53.obj" />
			</geometry>
		</visual>
		<visual name="base_side_panel-17">
			<origin xyz="0 0 0" />
			<geometry>
				<mesh filename="textured_objs/original-19.obj" />
			</geometry>
		</visual>
		<visual name="base_side_panel-18">
			<origin xyz="0 0 0" />
			<geometry>
				<mesh filename="textured_objs/original-13.obj" />
			</geometry>
		</visual>
		<visual name="base_side_panel-19">
			<origin xyz="0 0 0" />
			<geometry>
				<mesh filename="textured_objs/original-20.obj" />
			</geometry>
		</visual>
		<visual name="base_side_panel-20">
			<origin xyz="0 0 0" />
			<geometry>
				<mesh filename="textured_objs/original-17.obj" />
			</geometry>
		</visual>
		</link>
	<joint name="joint_2" type="fixed">
		<origin rpy="1.570796326794897 0 -1.570796326794897" xyz="0 0 0" />
		<child link="link_2" />
		<parent link="base" />
	</joint>
</robot>
